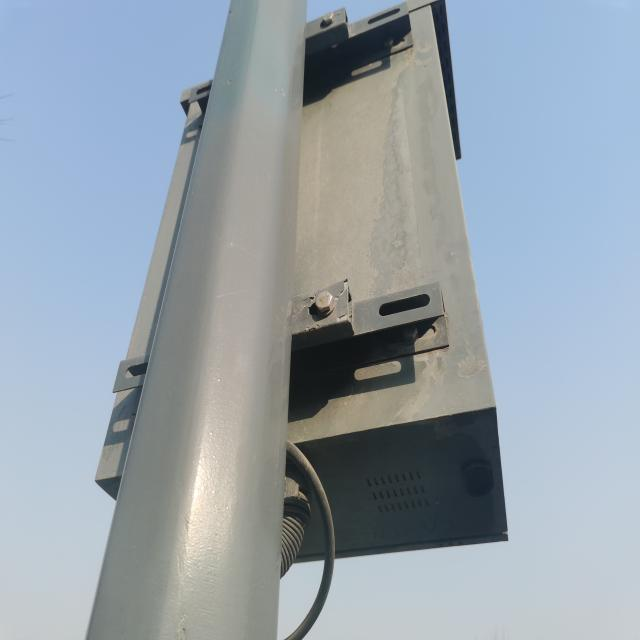blur bolt: (402, 319, 418, 342), (321, 11, 337, 27)
bolt head: (314, 289, 335, 315)
